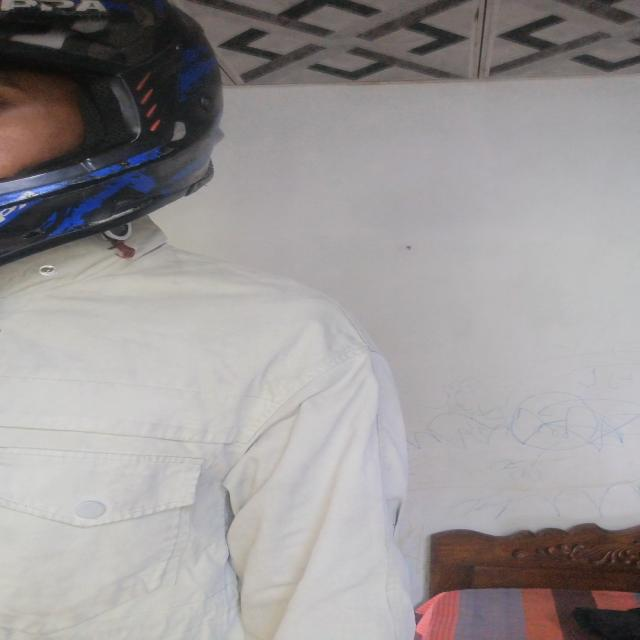Helmet_Wearer: (0, 0, 255, 255)
Jacket_Wearer: (1, 230, 438, 640)
Person: (0, 0, 423, 638)
